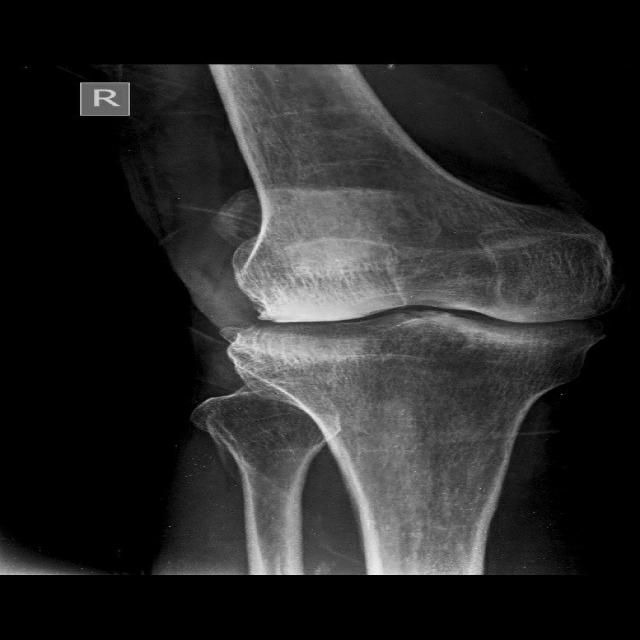osteo: (219, 228, 617, 380)
